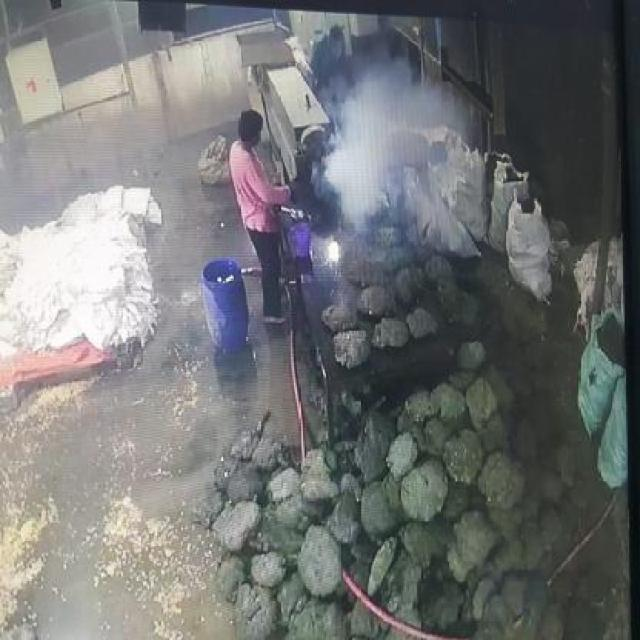fire: (318, 44, 477, 230)
